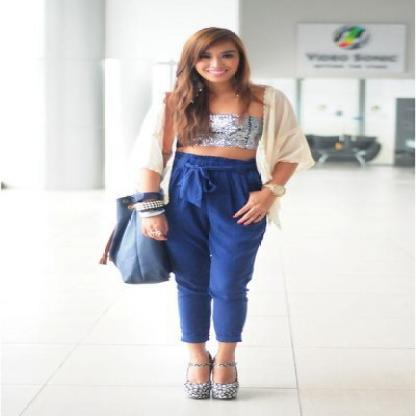bag: (110, 202, 164, 284)
pants: (150, 152, 265, 343)
shirt: (129, 92, 328, 174), (210, 113, 258, 148)
shoe: (188, 374, 238, 401)
